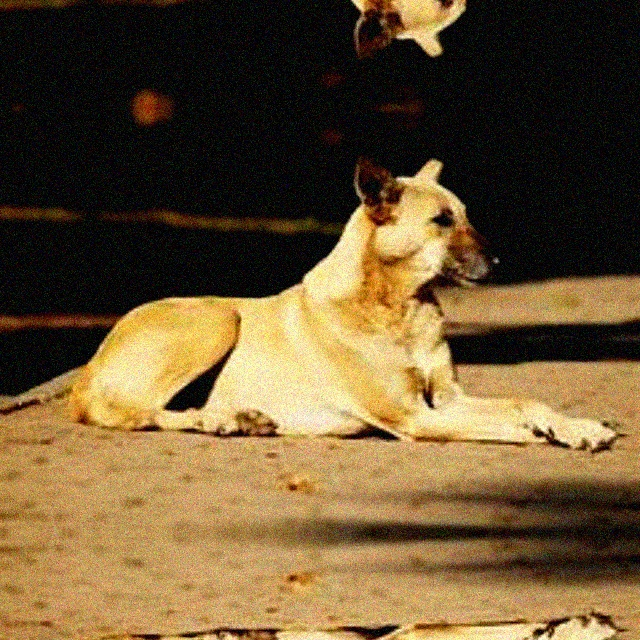dog: (112, 156, 608, 482), (112, 0, 608, 57), (112, 584, 608, 640)
